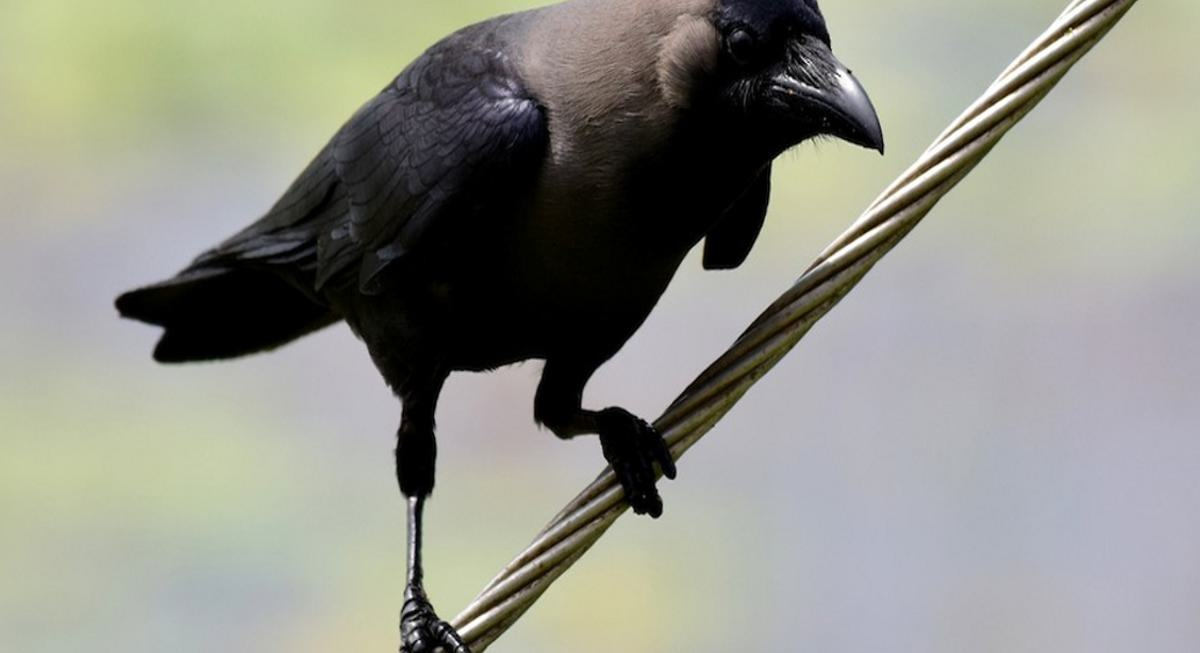crow: (147, 2, 888, 645)
